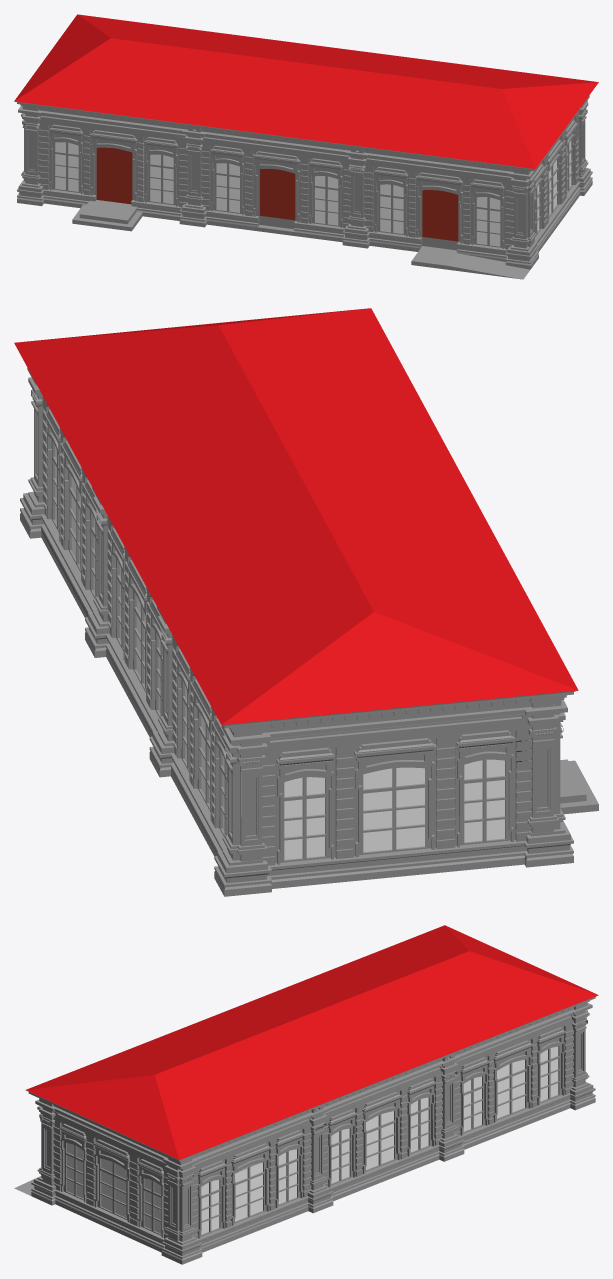
Rendered from knyag.fbx.
3 renders of one model, top to bottom at view 1: azimuth 30°, elevation 25°; view 2: azimuth 150°, elevation 25°; view 3: azimuth 270°, elevation 25°, orthographic. The views are drawn at different scales.
Visible parts, largest first — view 1: restaurant; view 2: restaurant; view 3: restaurant.
Part boxes in pixels (bbox=[...]): restaurant: bbox=[14, 14, 598, 279]; restaurant: bbox=[14, 308, 598, 896]; restaurant: bbox=[14, 925, 598, 1264].
Bounding box in the file's own units: 109 × 29.51 × 114.
